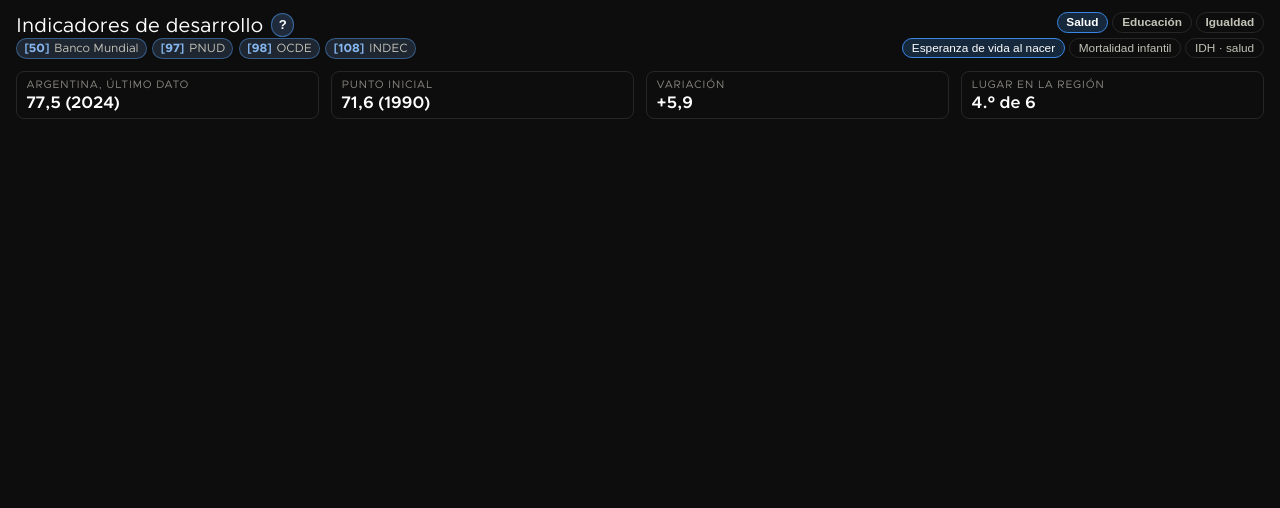
Test: DevelopmentStep › shows the regional ranking of the indicator with Argentina marked, and changes it with the indicator
The image size is (1280, 508).
Click the button "Mortalidad infantil".
click(1125, 48)  # box [1069,38,1181,58]
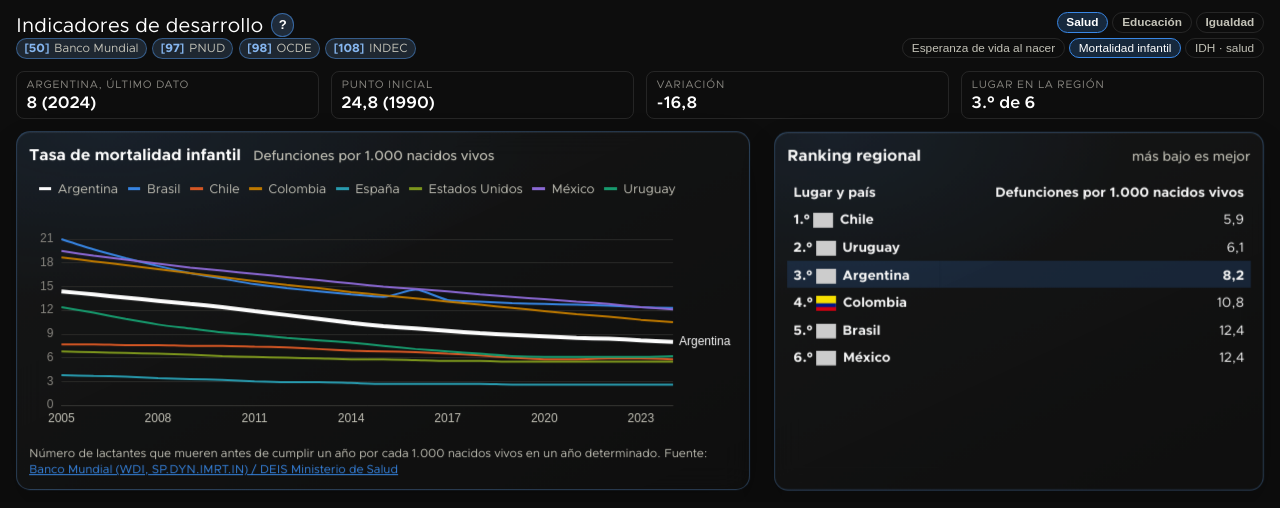
Result: the table named "Ranking regional de Tasa de mortalidad infantil" is shown at [788,178,1251,371]
Result: the text "más bajo es mejor" is shown at [1132,146,1251,164]
